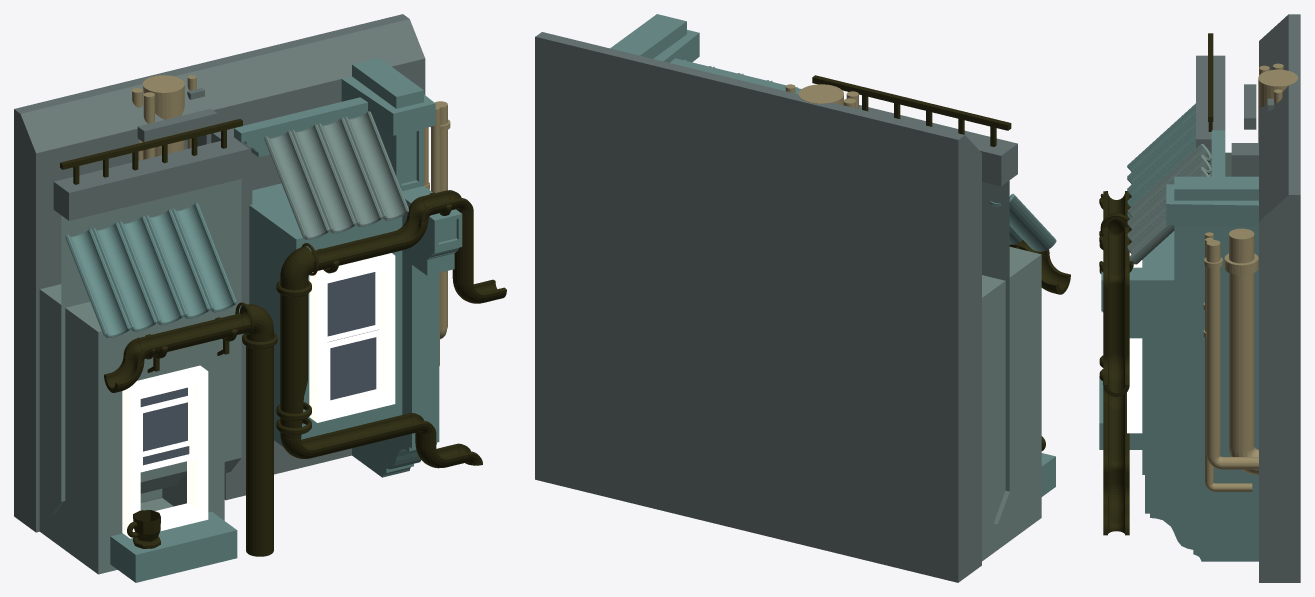
3 renders of one model, left to right at view 1: azimuth 30°, elevation 25°; view 2: azimuth 150°, elevation 25°; view 3: azimuth 270°, elevation 25°, orthographic. The views are drawn at different scales.
Visible parts, largest first — view 1: Cube.181; view 2: Cube.181; view 3: Cube.181.
Boxes of the visible parts, x1,y1,x2,y2 form: Cube.181: (14, 14, 506, 582); Cube.181: (535, 14, 1070, 582); Cube.181: (1099, 14, 1300, 582).
Size of the model in its own units: 100 by 100 by 47.08.
